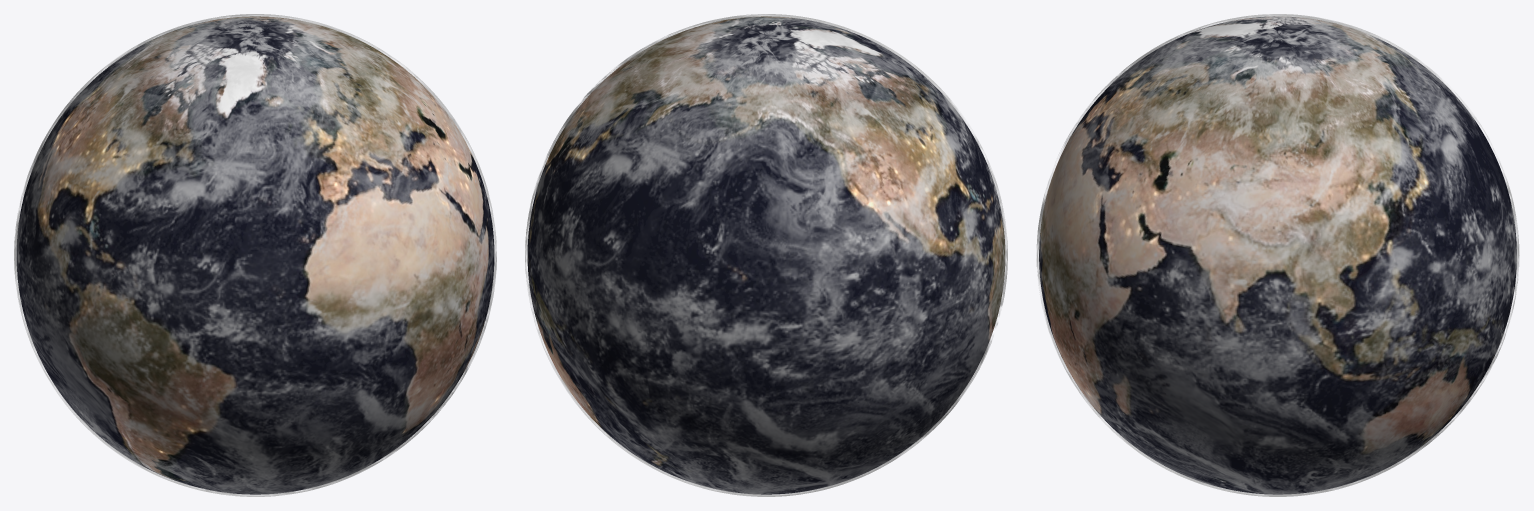
3 views of the same model, side by side, from view 1: azimuth 30°, elevation 25°; view 2: azimuth 150°, elevation 25°; view 3: azimuth 270°, elevation 25° (orthographic).
Visible parts, largest first — view 1: Object_3, Object_2; view 2: Object_3, Object_2; view 3: Object_3, Object_2.
Part boxes in pixels (<box>): Object_3: <box>16,16,494,494</box>; Object_2: <box>14,14,496,496</box>; Object_3: <box>527,16,1005,494</box>; Object_2: <box>525,14,1007,496</box>; Object_3: <box>1039,16,1516,494</box>; Object_2: <box>1036,14,1519,496</box>.
Size of the model in its own units: 7.38 by 7.38 by 7.38.
2 materials, 2 textured.
